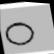no answer: (1, 16, 37, 51)
